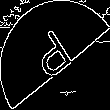P_SE: (28, 24, 82, 86)
